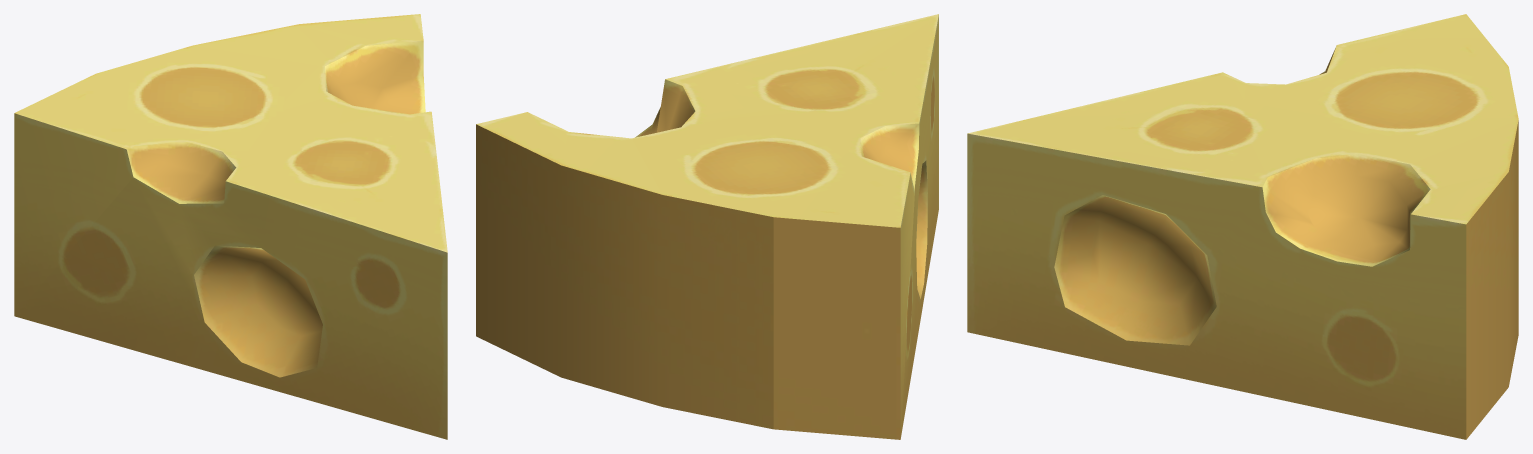
Rendered from Cheese.glb.
The picture shows the model from 3 angles, left to right: view 1: azimuth 30°, elevation 25°; view 2: azimuth 150°, elevation 25°; view 3: azimuth 270°, elevation 25°; orthographic projection. The views are drawn at different scales.
Parts seen in each view (by area): view 1: Cheese_Raw_ncl1_1; view 2: Cheese_Raw_ncl1_1; view 3: Cheese_Raw_ncl1_1.
Boxes of the visible parts, bbox=[...] form: Cheese_Raw_ncl1_1: bbox=[14, 14, 447, 439]; Cheese_Raw_ncl1_1: bbox=[476, 14, 938, 439]; Cheese_Raw_ncl1_1: bbox=[967, 14, 1518, 439].
Bounding box in the file's own units: 0.9169 × 0.4378 × 1.02.
1 material, 1 textured.
